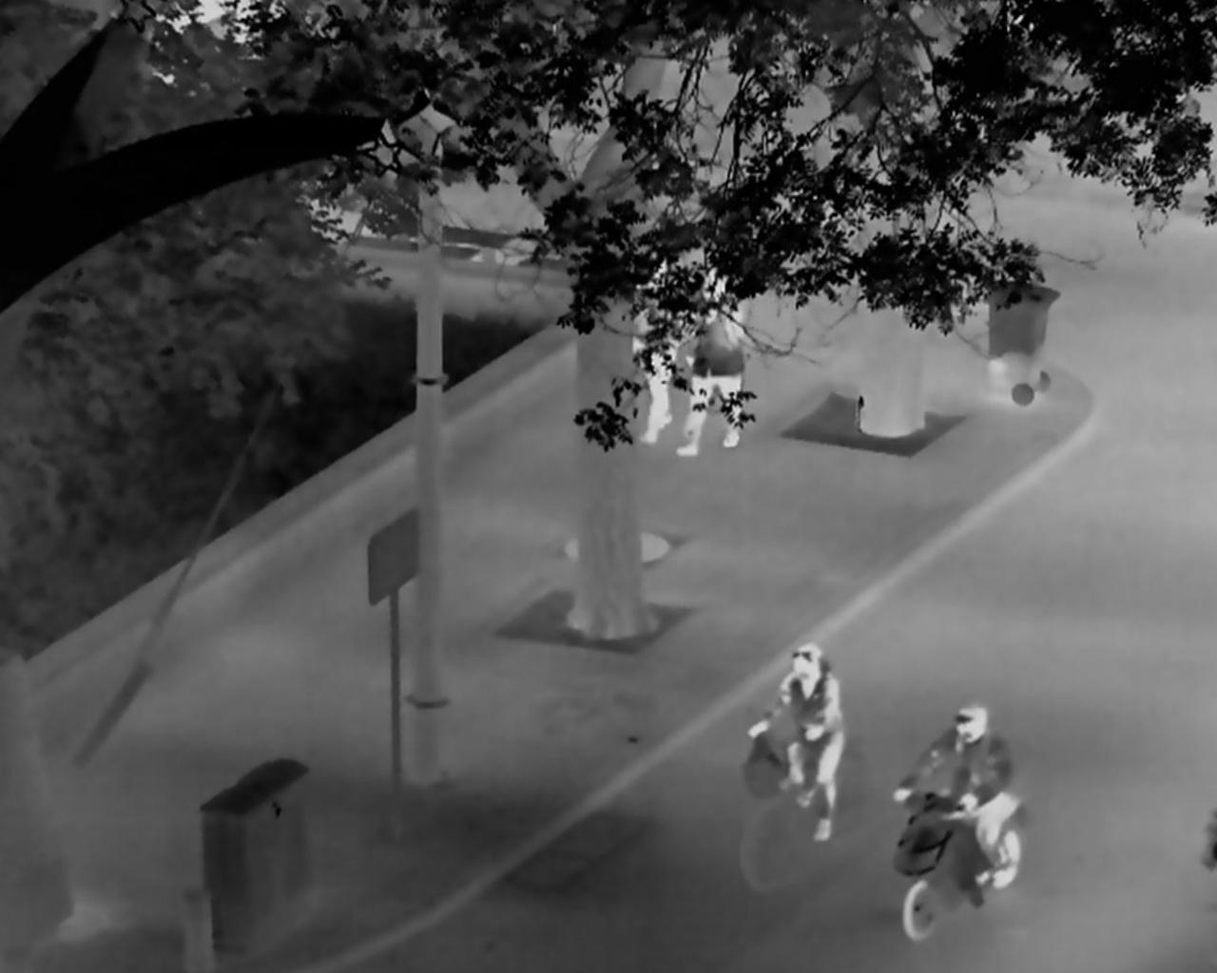person: (892, 704, 1013, 884), (746, 640, 844, 843), (673, 263, 745, 458), (630, 260, 673, 445)
